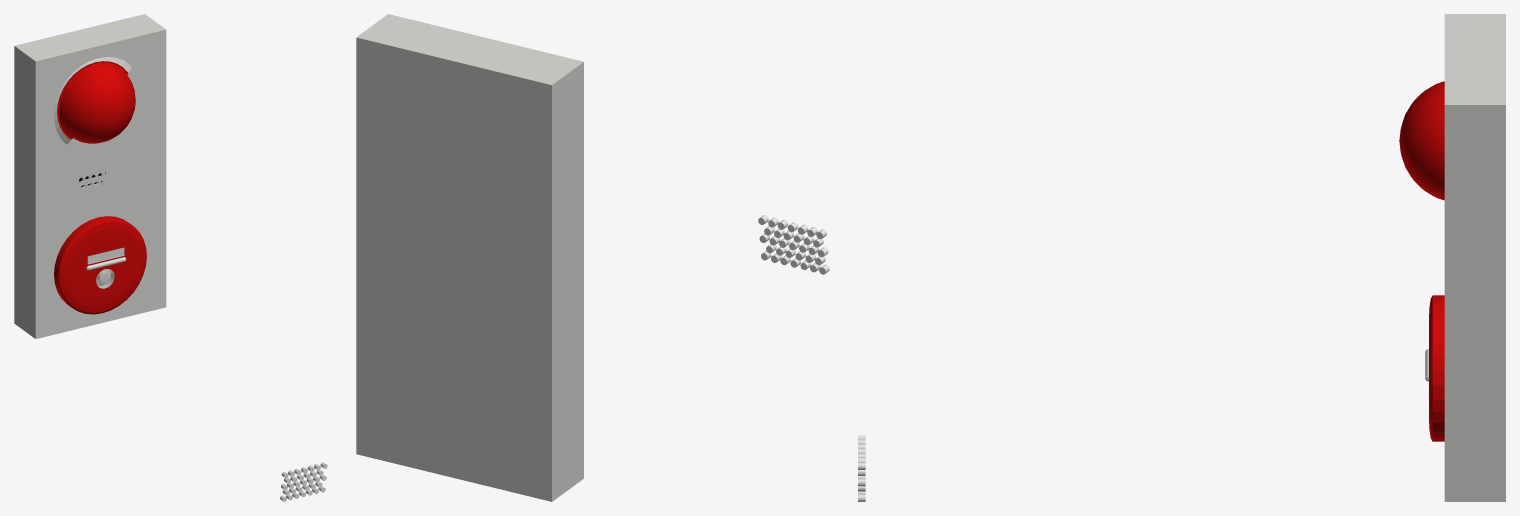
The model's file is 報知器.fbx.
The picture shows the model from 3 angles, left to right: view 1: azimuth 30°, elevation 25°; view 2: azimuth 150°, elevation 25°; view 3: azimuth 270°, elevation 25°; orthographic projection. The views are drawn at different scales.
Parts seen in each view (by area): view 1: 立方体, 円柱.008; view 2: 立方体, 円柱.008; view 3: 立方体.
Boxes of the visible parts, box(x1,y1,x2,y2) form: 立方体: box(14, 14, 166, 338); 円柱.008: box(280, 462, 327, 501); 立方体: box(356, 14, 583, 501); 円柱.008: box(758, 215, 829, 274); 立方体: box(1399, 14, 1505, 501).
Bounding box in the file's own units: 120 × 264 × 361.
